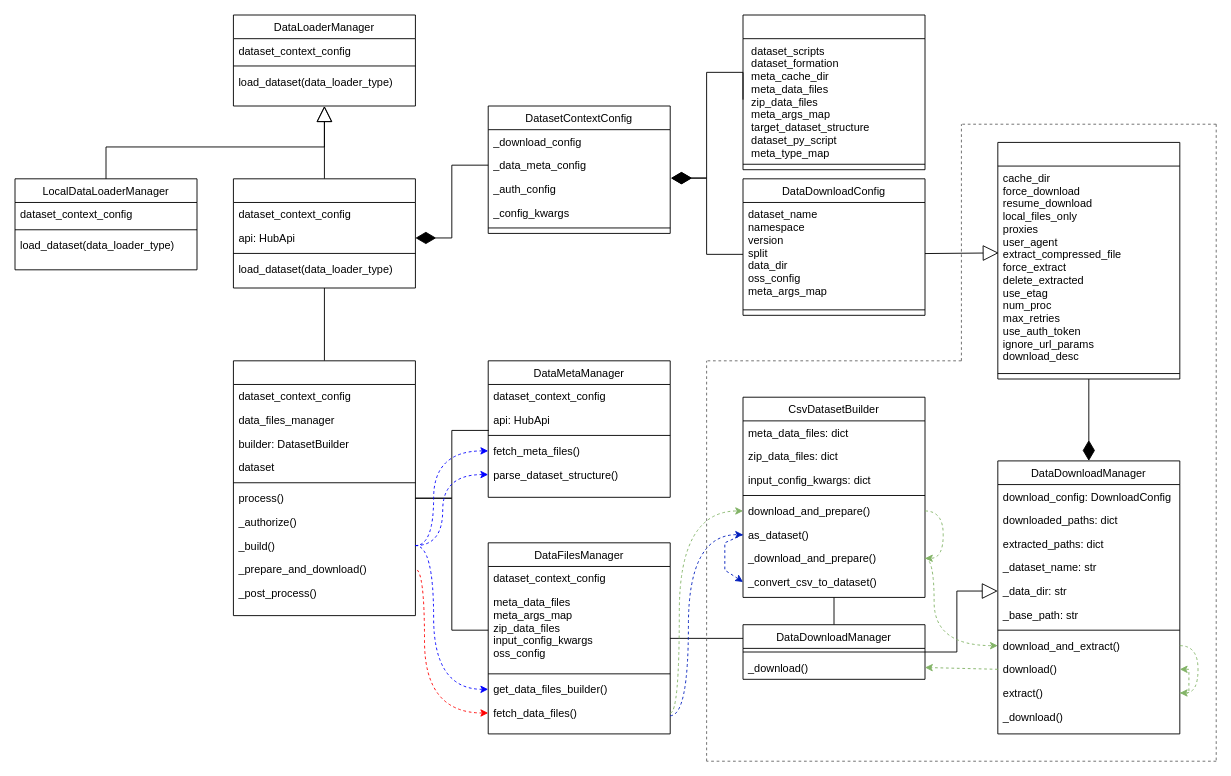
Some shapes in this 1231 by 776 pixel diagram are drawn without their labels. Each missing label, with the box of its shape:
DataMetaConfig: (742, 14, 925, 170)
DownloadConfig: (997, 142, 1180, 379)
OssDownloader: (233, 360, 415, 616)
RemoteDataLoaderManager: (233, 178, 415, 288)
